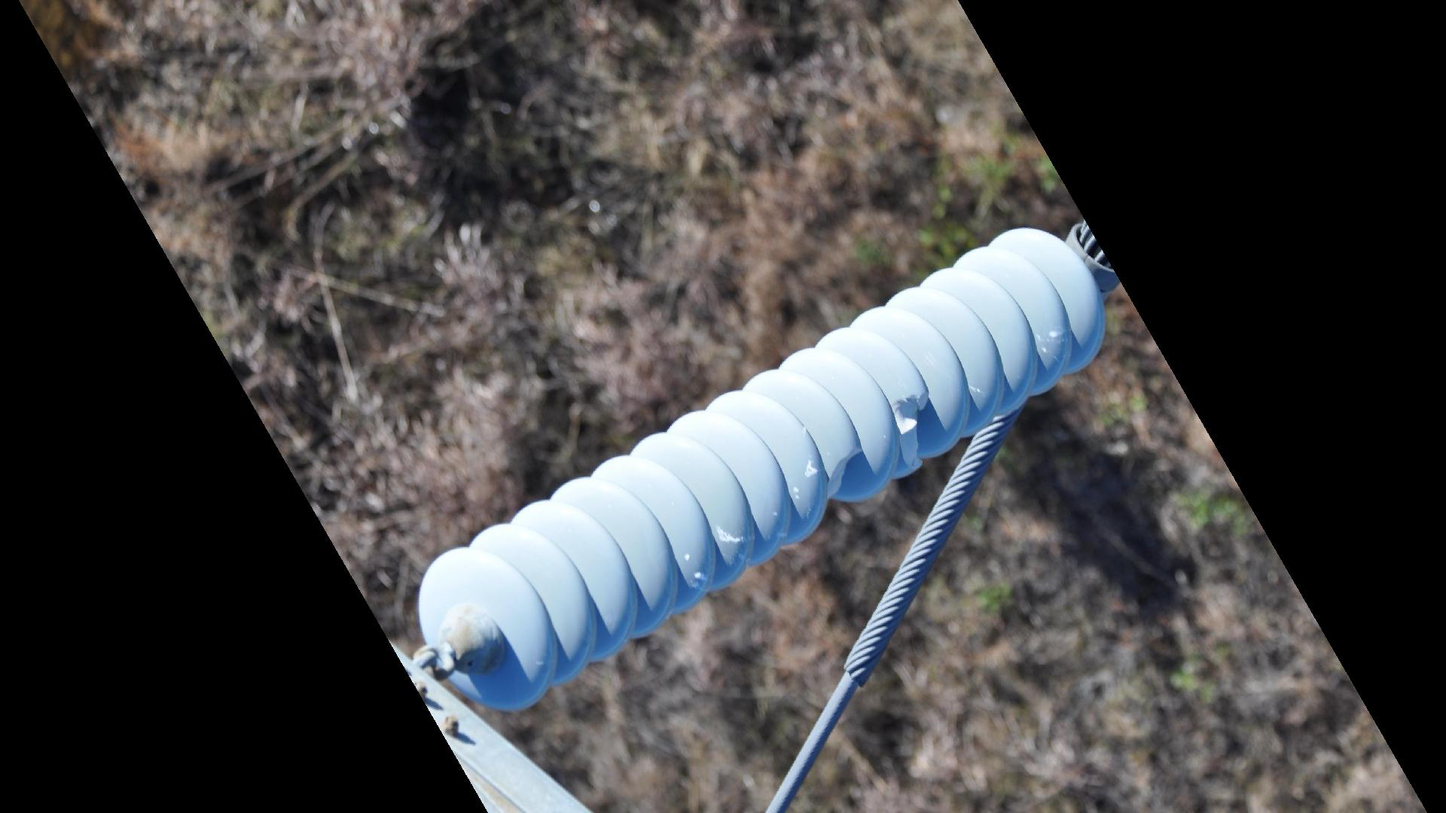insulator: (409, 221, 1113, 720)
insulator_breakage: (886, 381, 933, 479), (822, 437, 865, 510)
